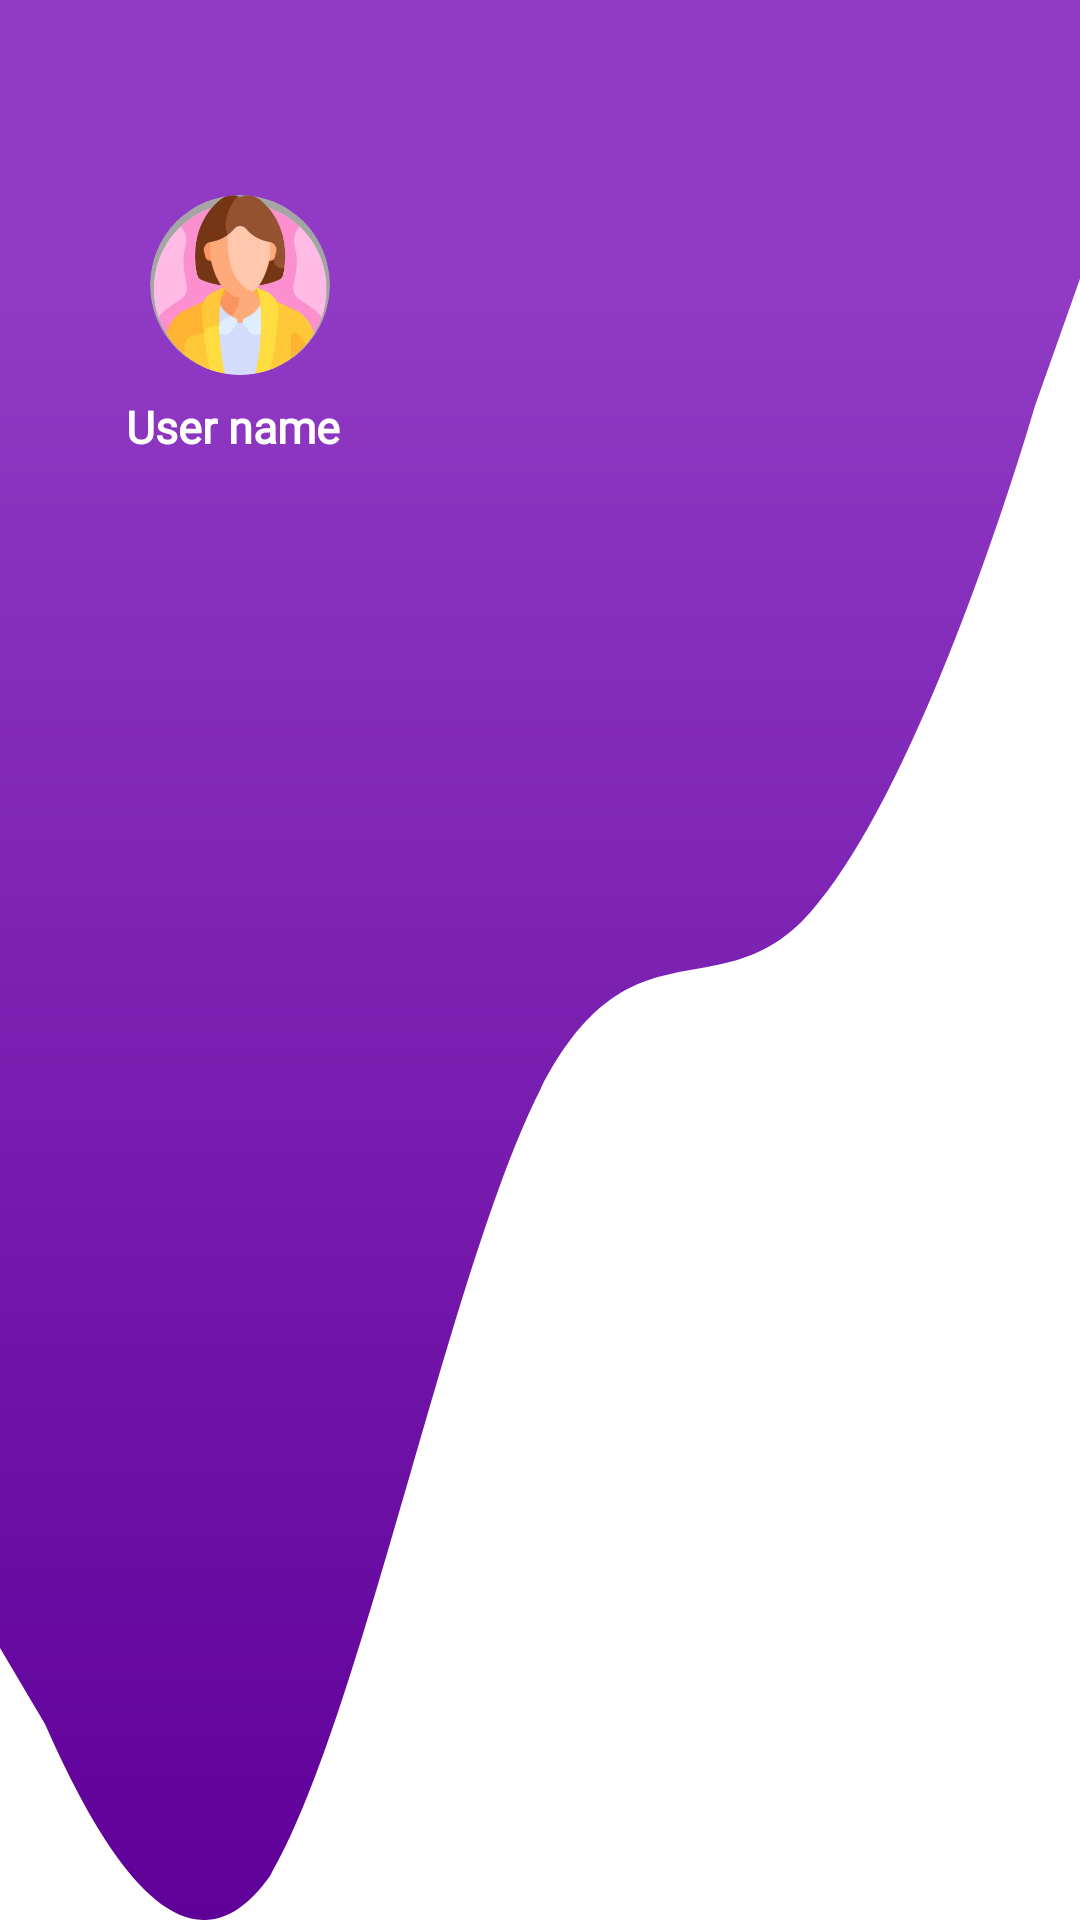

Screen size 1080×1920. Icon name, then its center in pixels as (x,y):
person: (240,285)
